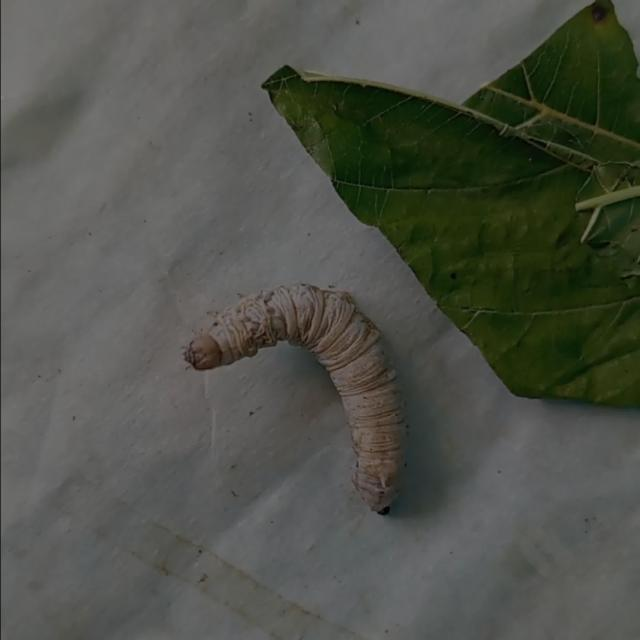Grasserie: (178, 268, 424, 528)
